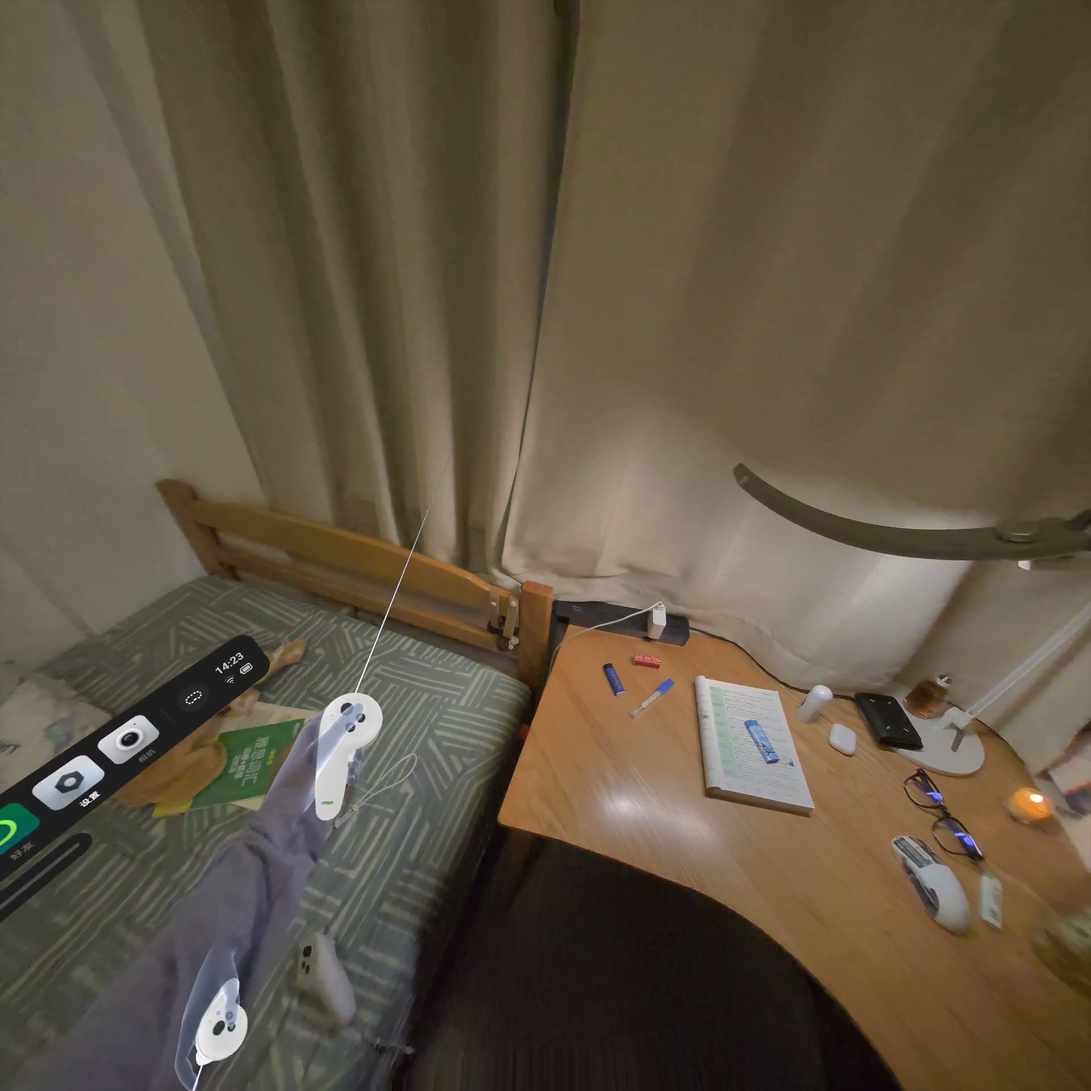lighter: (744, 720, 778, 764)
